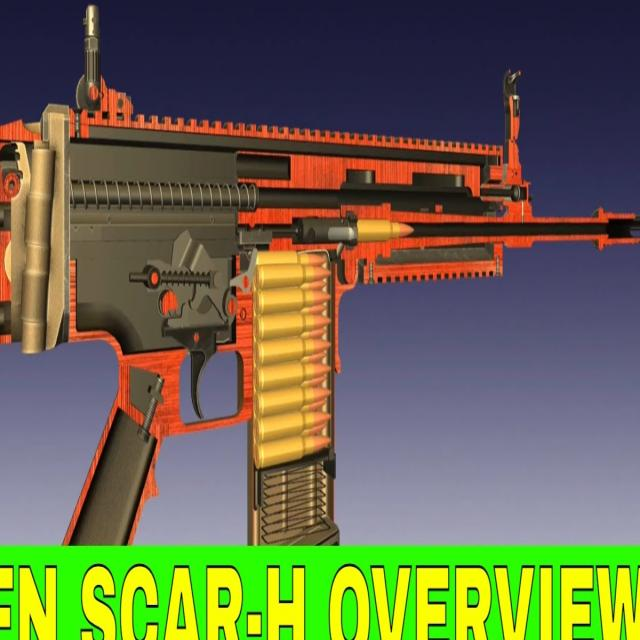Gun: (0, 40, 640, 549)
